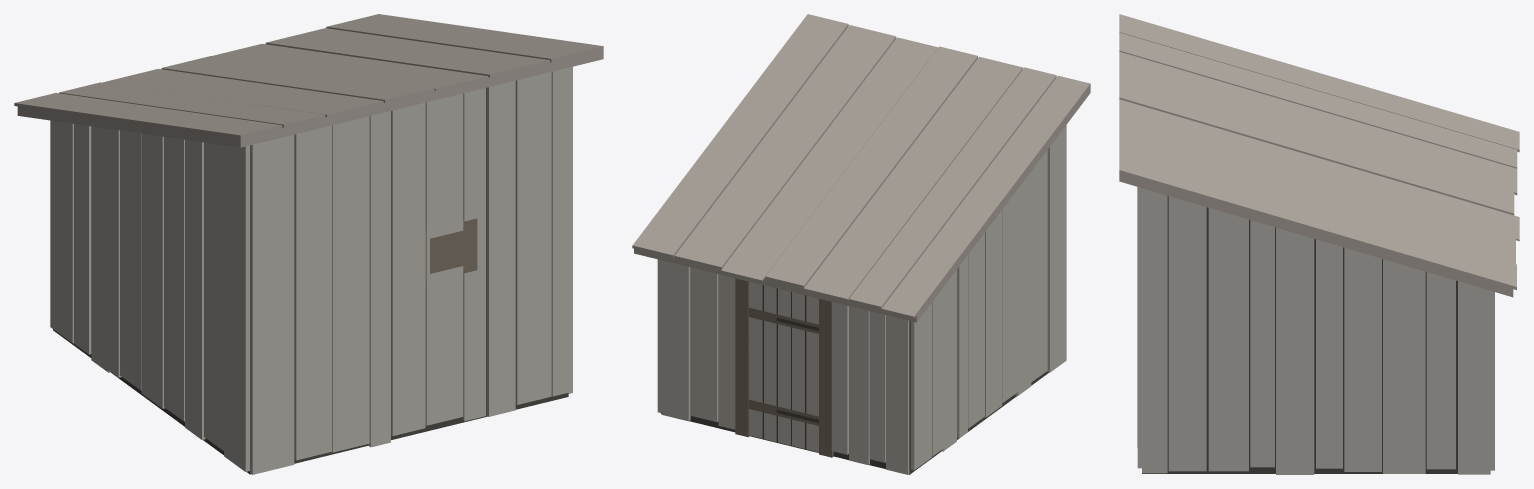
File: recon_1835_blk_indiana_north_wolcott_a4_03__inferred_1835.glb
The picture shows the model from 3 angles, left to right: view 1: azimuth 30°, elevation 25°; view 2: azimuth 150°, elevation 25°; view 3: azimuth 270°, elevation 25°; orthographic projection. The views are drawn at different scales.
Visible parts, largest first — view 1: recon_1835_blk_indiana_north_wolcott_a4_03__inferred_1835; view 2: recon_1835_blk_indiana_north_wolcott_a4_03__inferred_1835; view 3: recon_1835_blk_indiana_north_wolcott_a4_03__inferred_1835.
Part boxes in pixels (x1,y1,x2,y2): recon_1835_blk_indiana_north_wolcott_a4_03__inferred_1835: (14,14,603,474); recon_1835_blk_indiana_north_wolcott_a4_03__inferred_1835: (632,14,1090,474); recon_1835_blk_indiana_north_wolcott_a4_03__inferred_1835: (1119,14,1519,474).
Bounding box in the file's own units: 3.45 × 3.22 × 3.72.
